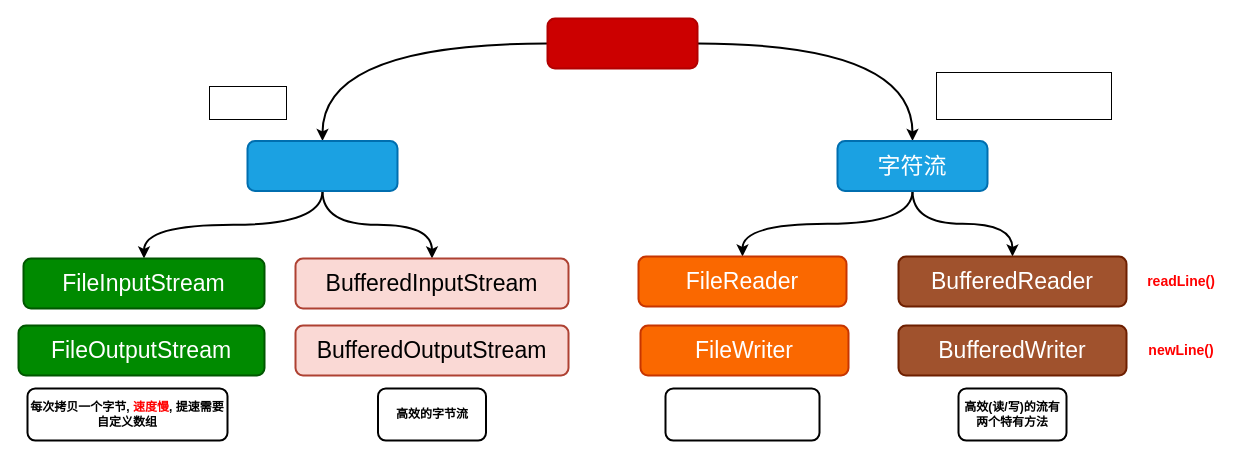
Some shapes in this 1240 by 458 pixel diagram are drawn without their labels. Here are the shapes that lost their labels. From the top down, the centre of each, then its label:
At [622,43]: "IO流".
At [247,103]: "拷贝文件".
At [1024,96]: "读取文本文件中的数据 将数据写入文本文件中".
At [322,166]: "字节流".
At [742,414]: "每次(读/写)一个字符 速度慢, 提速要自定义数组".
